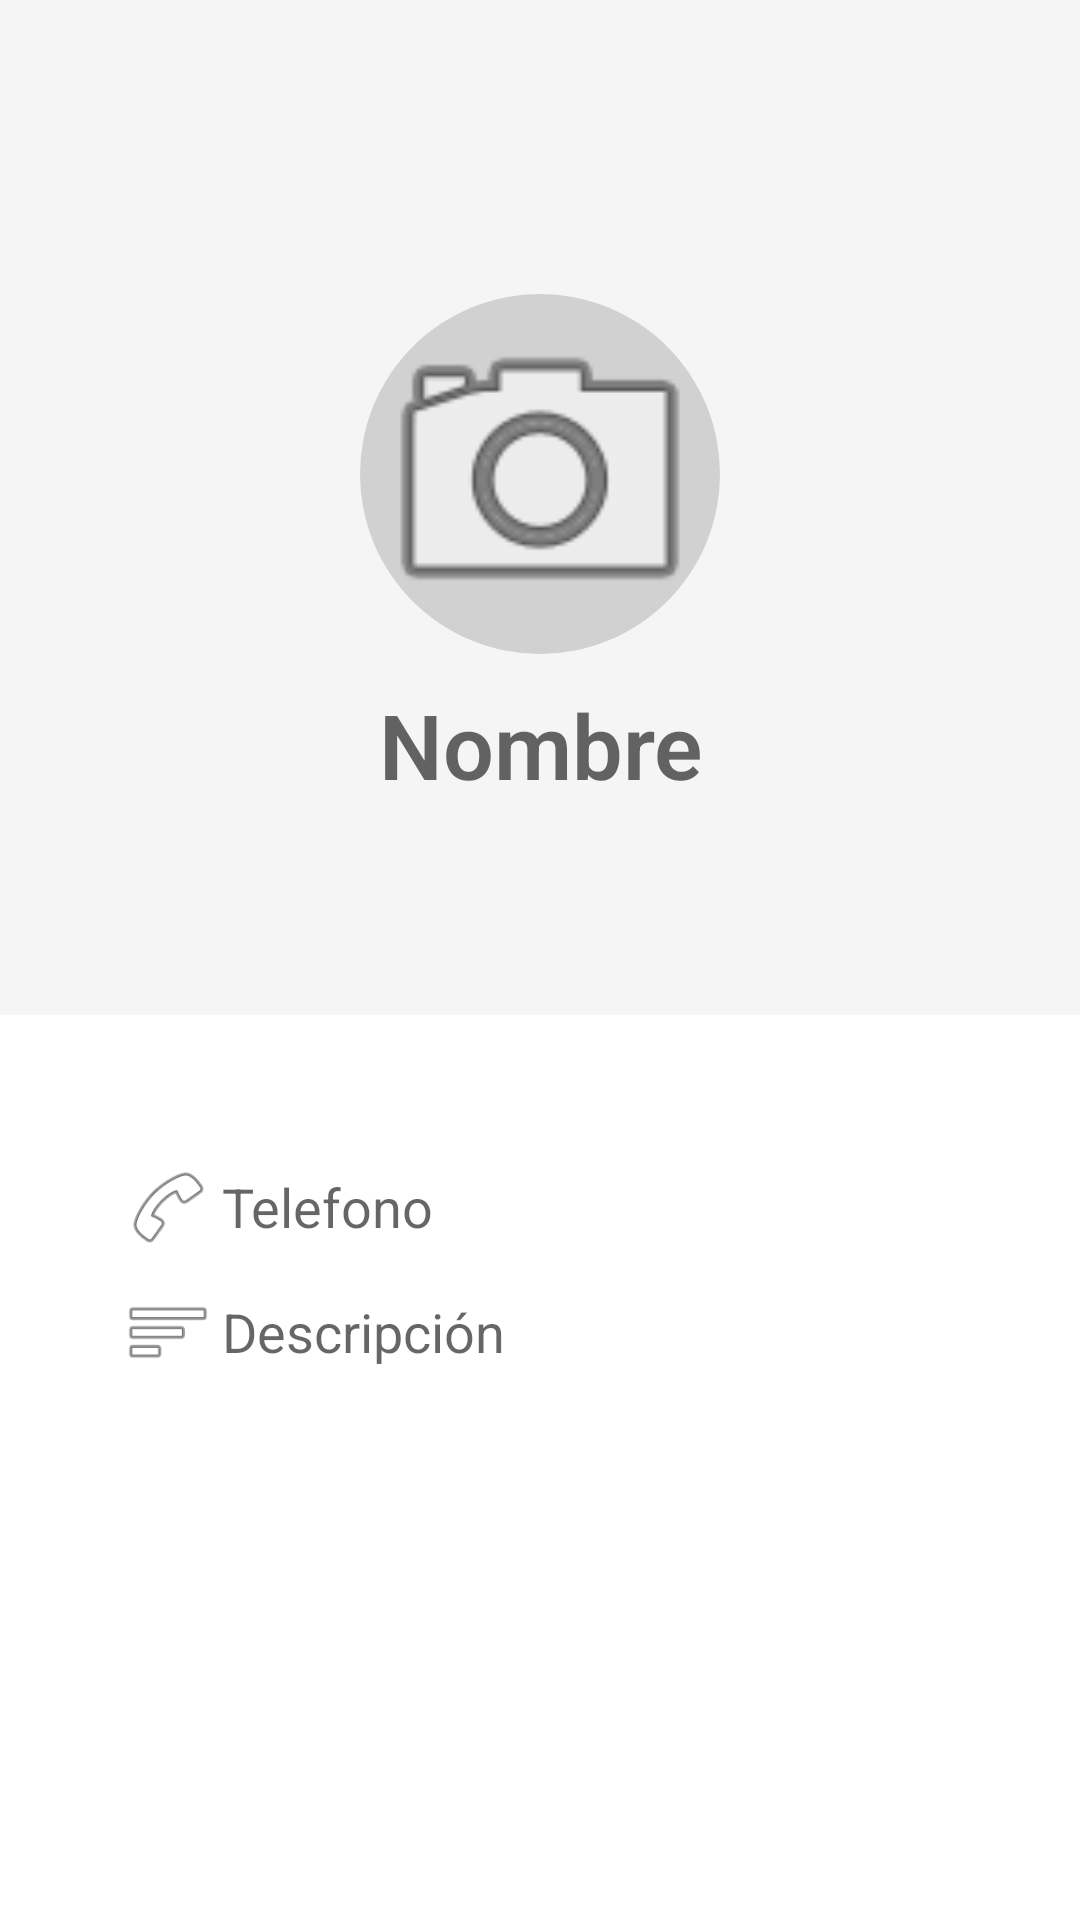

Point at icon controls on the screen. Image size 1080px x 1920px, points as (x=x, y=y).
Boton añadir imagen: (x=540, y=474)
call: (x=168, y=1207)
sort by size: (x=168, y=1332)
